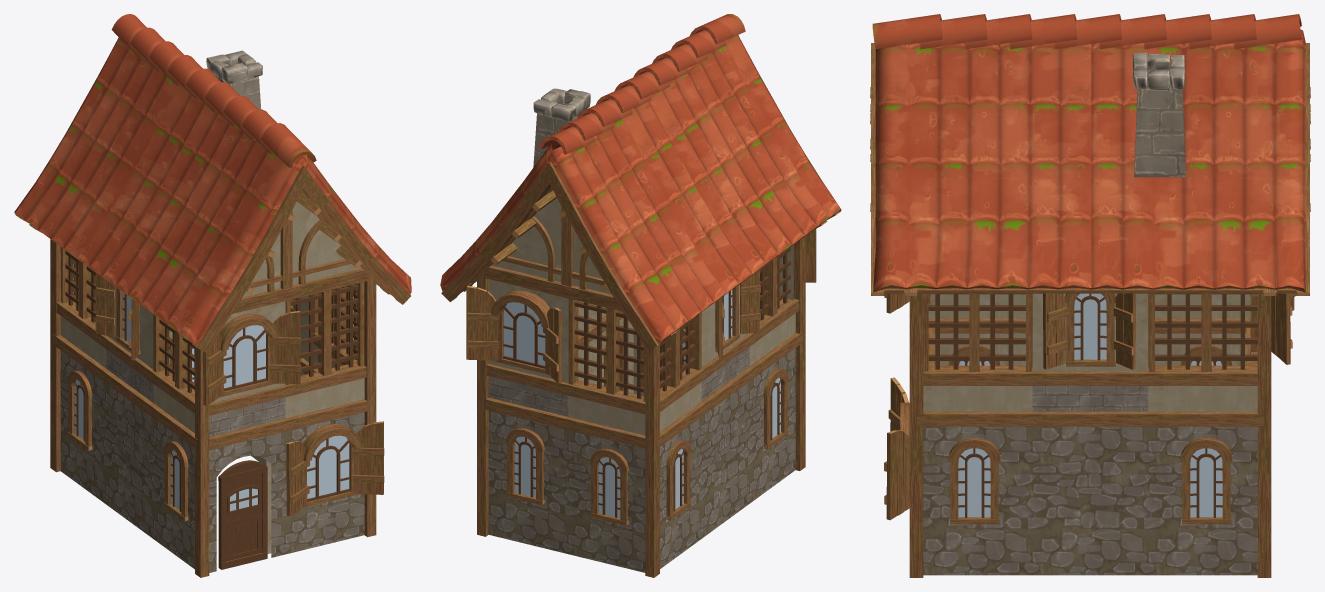
File: House2.gltf
3 views of the same model, side by side, from view 1: azimuth 30°, elevation 25°; view 2: azimuth 150°, elevation 25°; view 3: azimuth 270°, elevation 25° (orthographic). The views are drawn at different scales.
Visible parts, largest first — view 1: House2; view 2: House2; view 3: House2.
Boxes of the visible parts, bbox=[...] form: House2: bbox=[14, 14, 411, 577]; House2: bbox=[440, 14, 841, 577]; House2: bbox=[870, 14, 1310, 577].
Size of the model in its own units: 5.51 by 9.72 by 7.59.
Materials: 7 (6 with a texture image).
